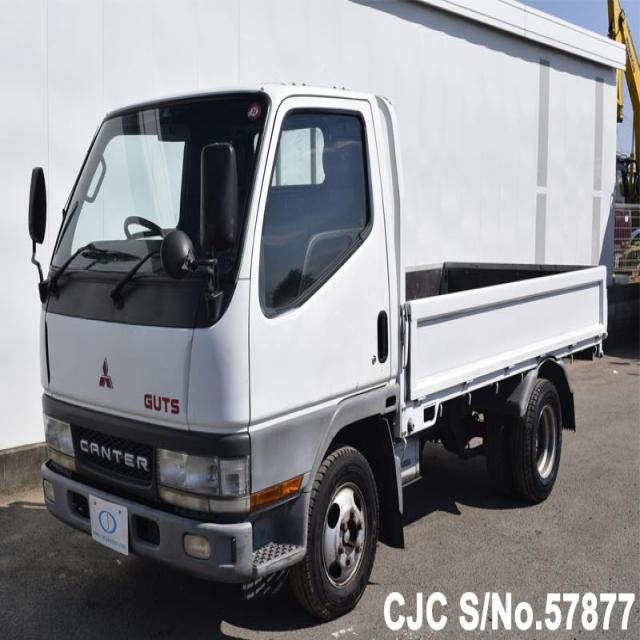Truck: (28, 85, 606, 609)
